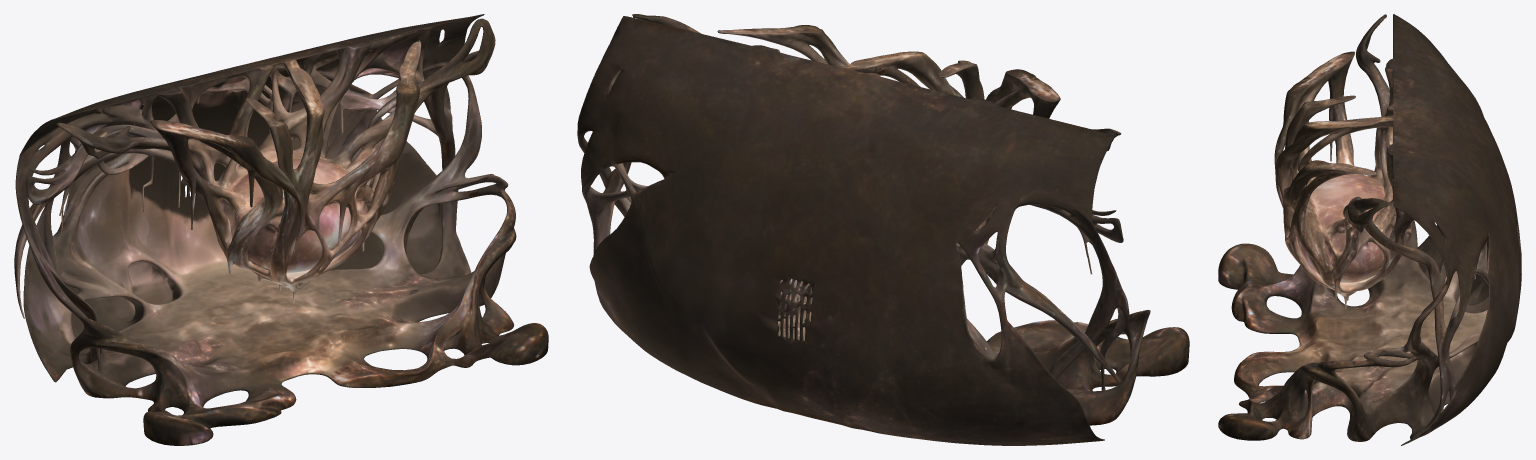
File: core.glb
3 views of the same model, side by side, from view 1: azimuth 30°, elevation 25°; view 2: azimuth 150°, elevation 25°; view 3: azimuth 270°, elevation 25° (orthographic). The views are drawn at different scales.
Visible parts, largest first — view 1: tripo_node_660f12b3-eac5-4c36-81b5-9f4df3325146; view 2: tripo_node_660f12b3-eac5-4c36-81b5-9f4df3325146; view 3: tripo_node_660f12b3-eac5-4c36-81b5-9f4df3325146.
Part boxes in pixels (box(x1,y1,x2,y2)): tripo_node_660f12b3-eac5-4c36-81b5-9f4df3325146: box(14, 14, 548, 445); tripo_node_660f12b3-eac5-4c36-81b5-9f4df3325146: box(577, 14, 1189, 445); tripo_node_660f12b3-eac5-4c36-81b5-9f4df3325146: box(1218, 14, 1521, 445).
Size of the model in its own units: 0.9792 by 0.5438 by 0.6101.
1 material, 1 textured.
